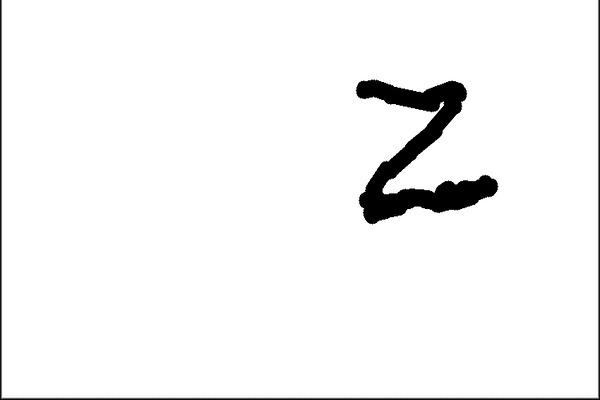Z: (345, 71, 513, 224)
